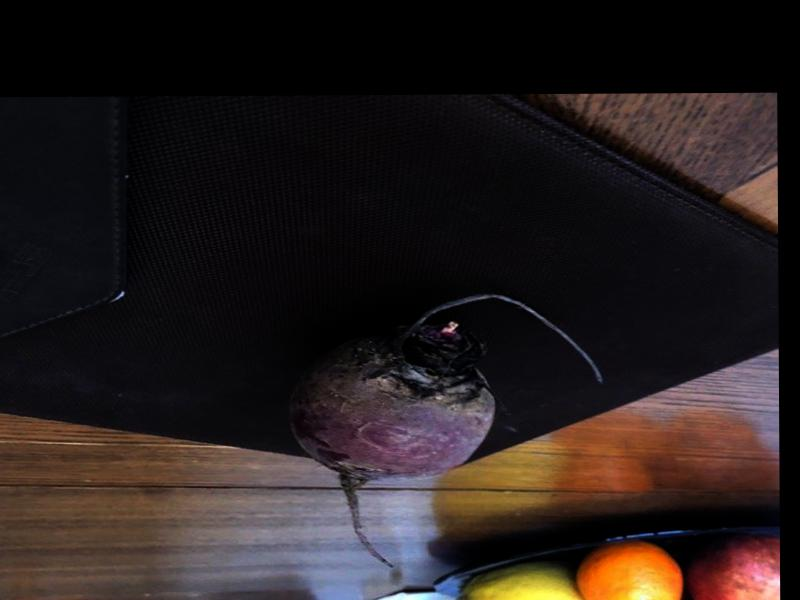Beet: (287, 292, 604, 569)
